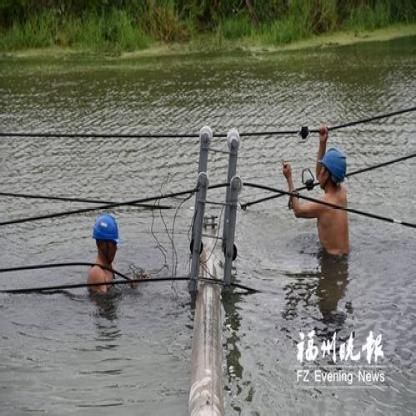helmet: (91, 209, 122, 267), (318, 146, 344, 189)
